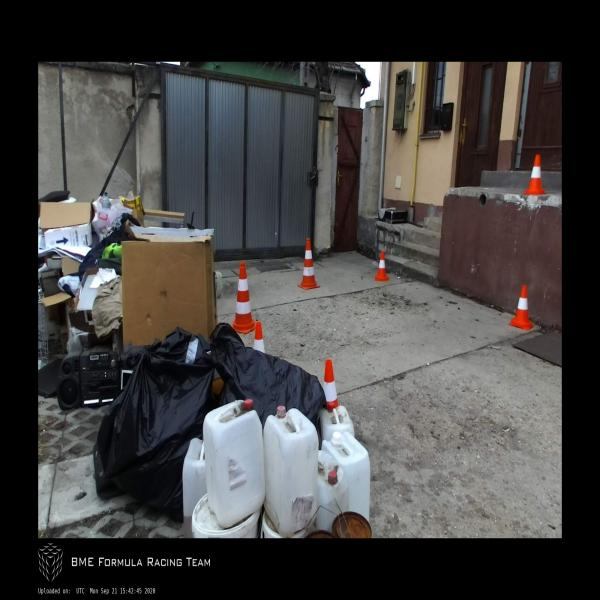large_orange_cone: (230, 261, 256, 334), (297, 238, 321, 290)
orange_cone: (508, 284, 532, 330), (522, 154, 546, 194), (323, 360, 338, 412), (376, 251, 389, 282), (254, 322, 265, 353)
